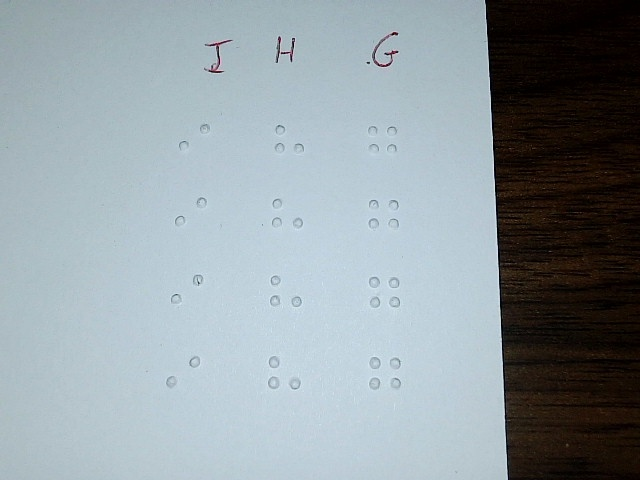H: (266, 347, 303, 409), (269, 188, 307, 248), (268, 267, 304, 326), (271, 116, 306, 172)
I: (165, 346, 203, 406), (367, 349, 402, 407), (177, 113, 212, 169), (365, 117, 400, 173), (367, 191, 402, 247), (367, 267, 402, 323), (175, 187, 210, 243), (170, 265, 205, 321)
